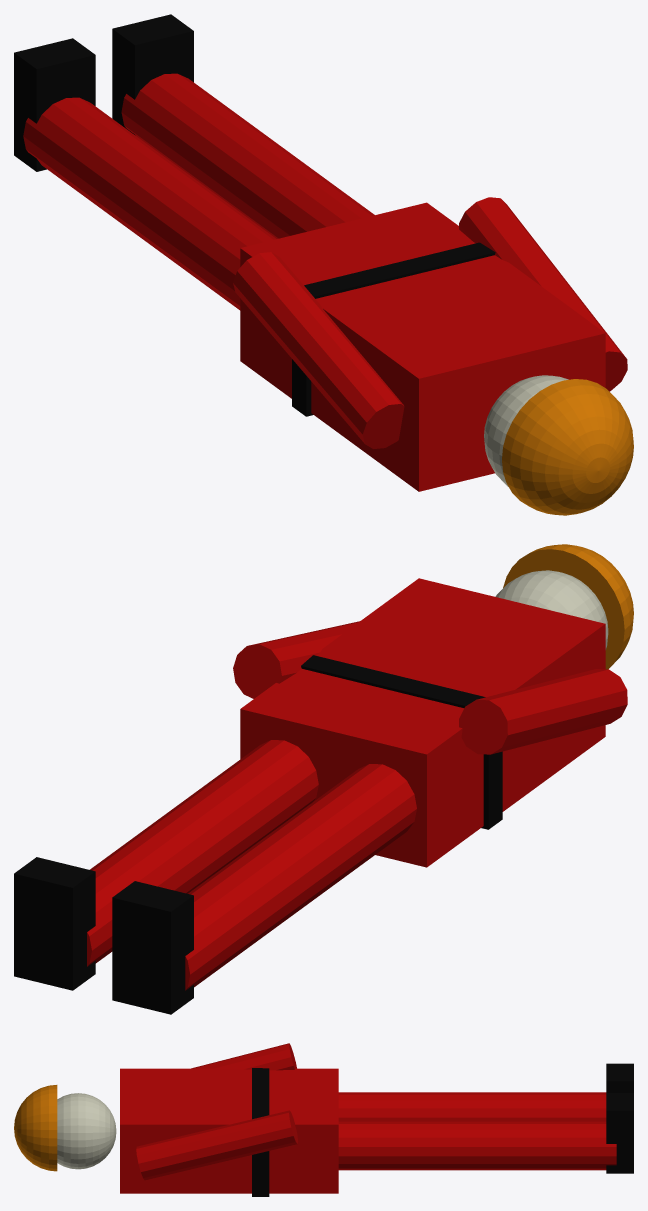
File: technician.obj
3 renders of one model, top to bottom at view 1: azimuth 30°, elevation 25°; view 2: azimuth 150°, elevation 25°; view 3: azimuth 270°, elevation 25°, orthographic. The views are drawn at different scales.
Visible parts, largest first — view 1: technician; view 2: technician; view 3: technician.
Part boxes in pixels (x1,y1,x2,y2): technician: (14, 14, 633, 515); technician: (14, 544, 633, 1014); technician: (14, 1043, 633, 1196).
Bounding box in the file's own units: 0.5597 × 0.2831 × 1.78.
